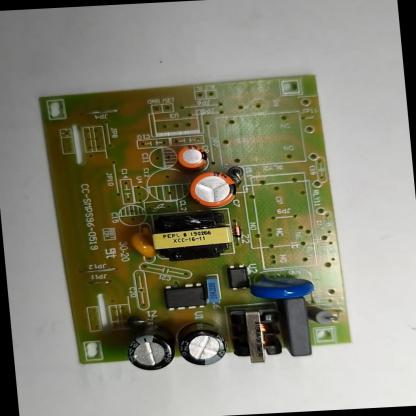Cap1: (186, 168, 237, 209)
Cap2: (174, 143, 208, 169)
Cap3: (174, 319, 230, 367)
Cap4: (125, 325, 176, 372)
MOSFET: (162, 282, 206, 311)
Mov: (249, 270, 316, 299)
Resistor: (307, 304, 338, 324)
Transformer: (147, 210, 235, 262), (230, 305, 284, 365)
